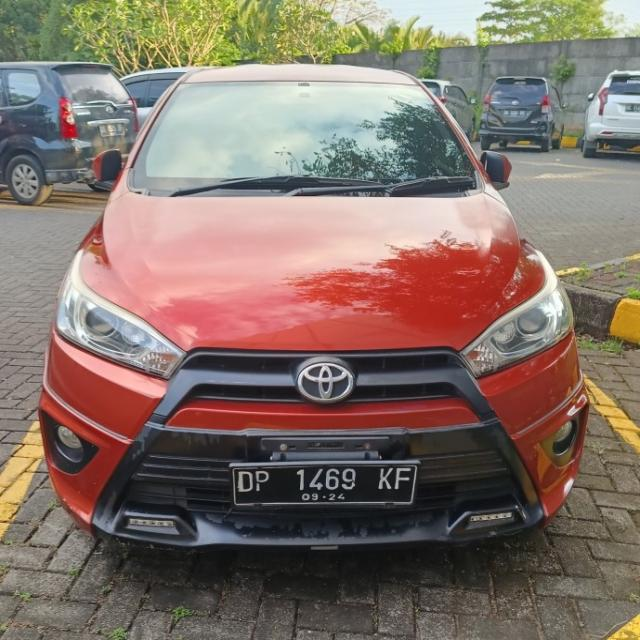plates: (223, 452, 413, 508)
